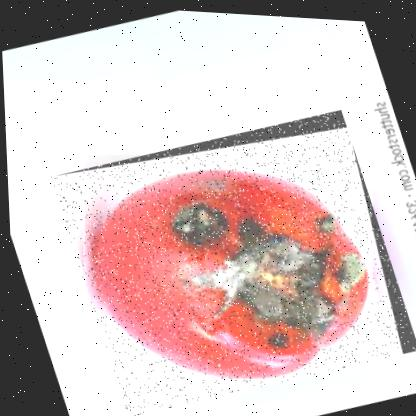tomato_rotten: (44, 91, 415, 415)
